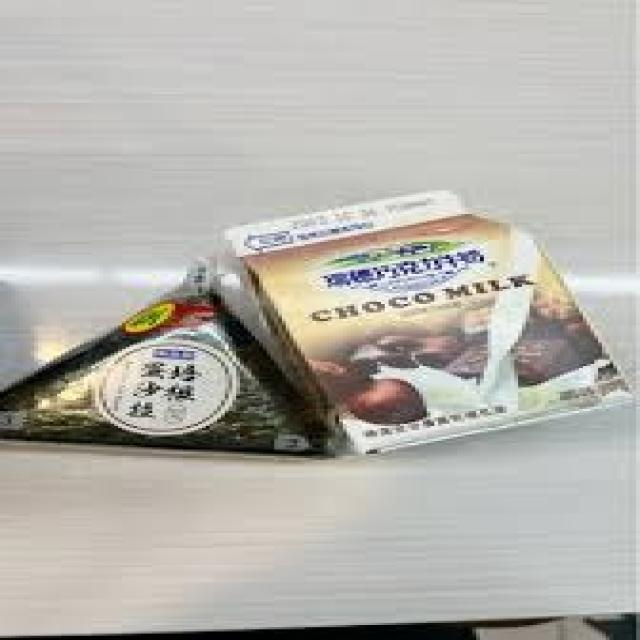RuiSui_ChocoMilk: (216, 187, 631, 453)
